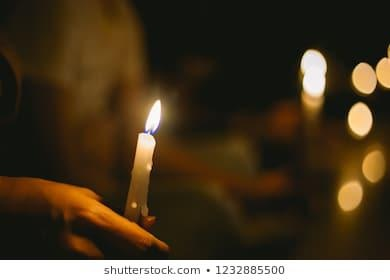fire: (140, 97, 163, 135)
